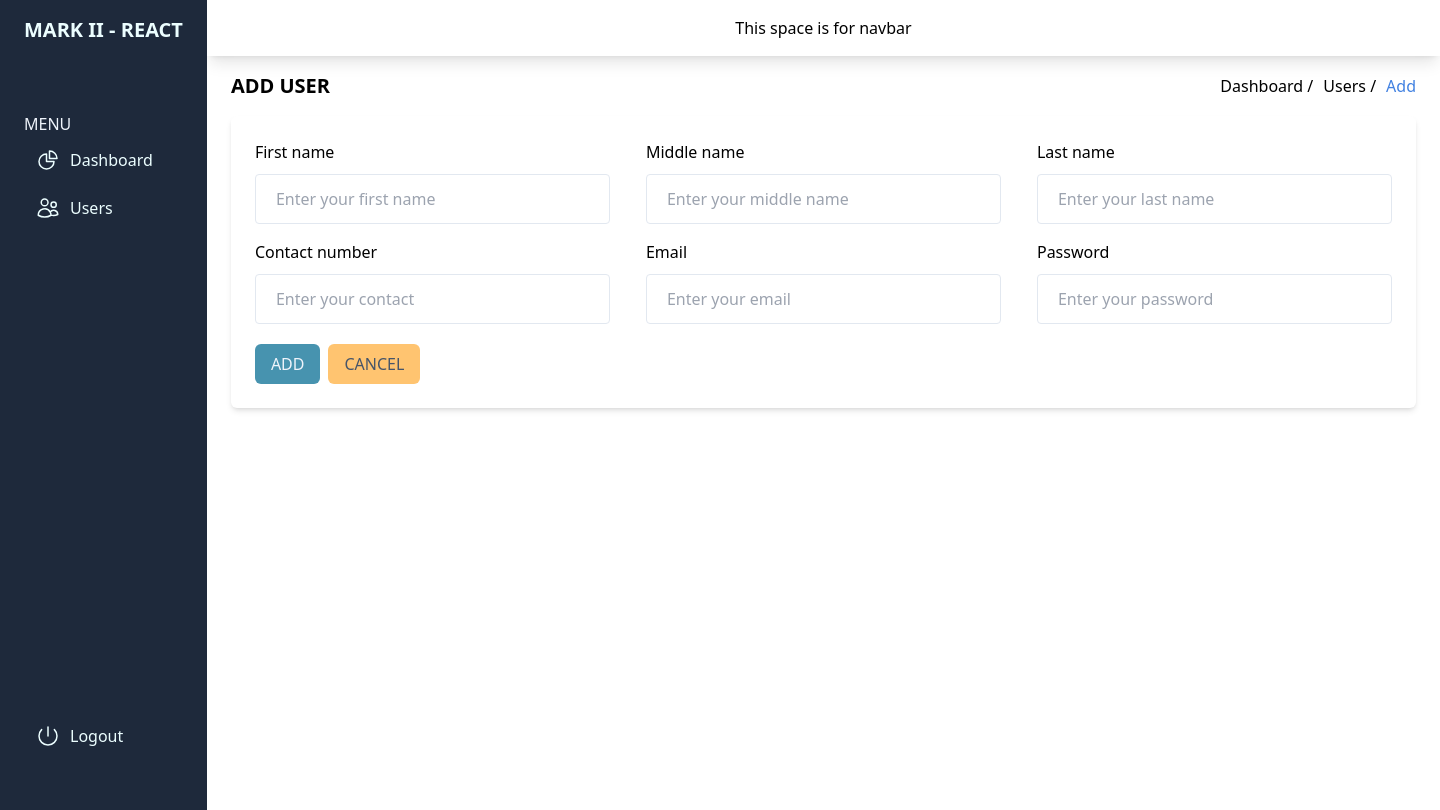
Test: UserAdd page › submit form and validation error
In the field labelled "First name": (432, 199) [255,174,610,224], type "John123"
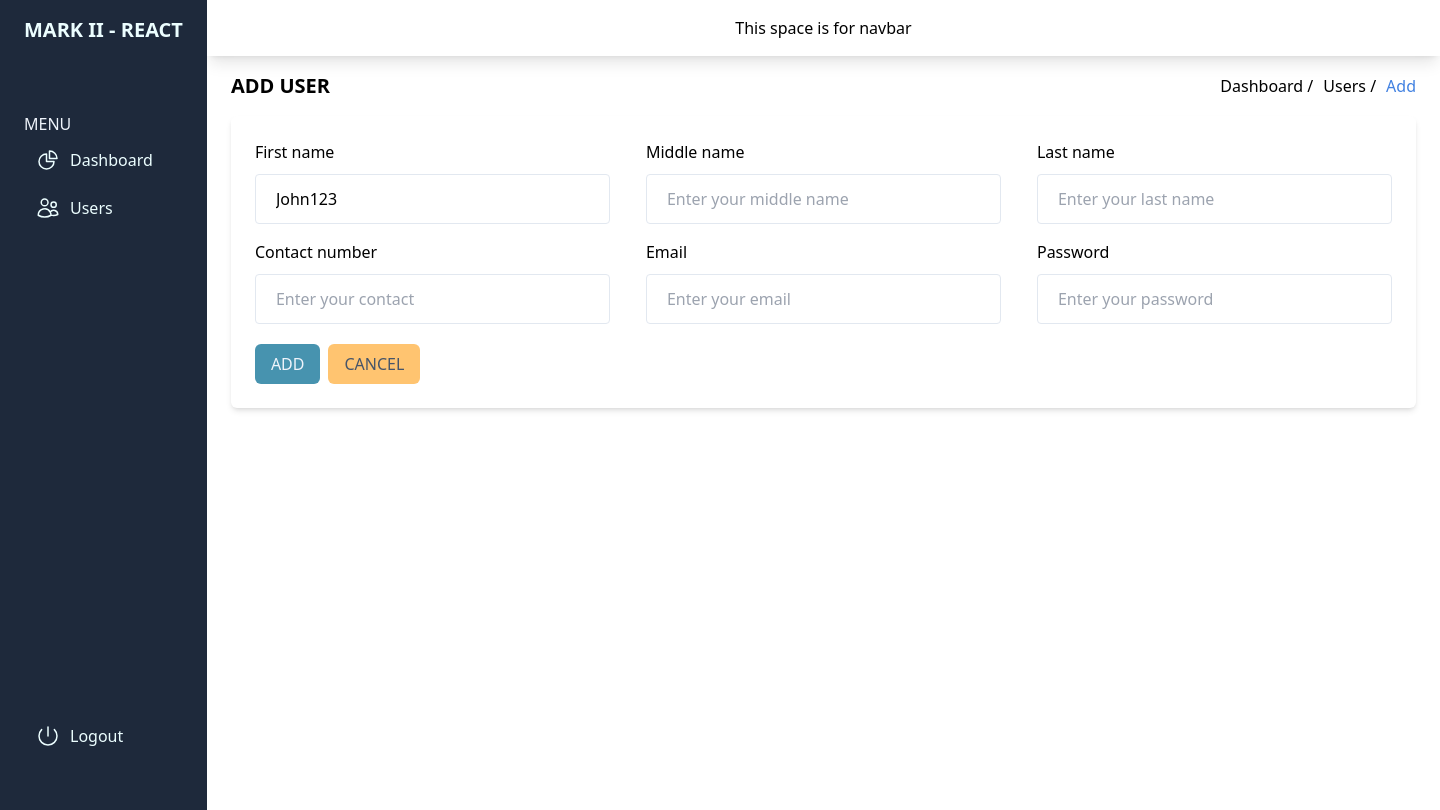
In the field labelled "Last name": (1214, 199) [1037,174,1392,224], type "Doe"
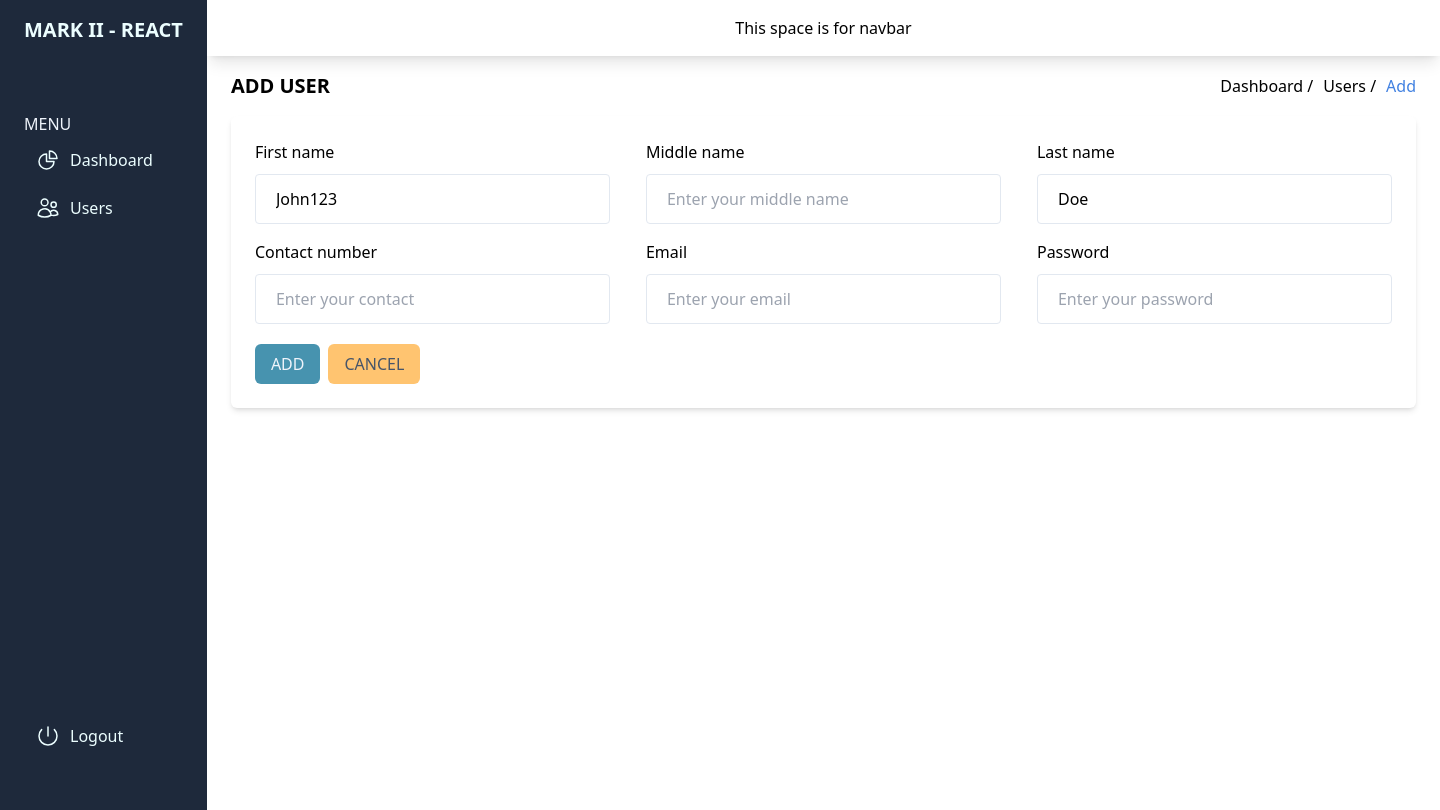
In the field labelled "Email": (823, 299) [646,274,1001,324], type "john.doe@gmail.com"
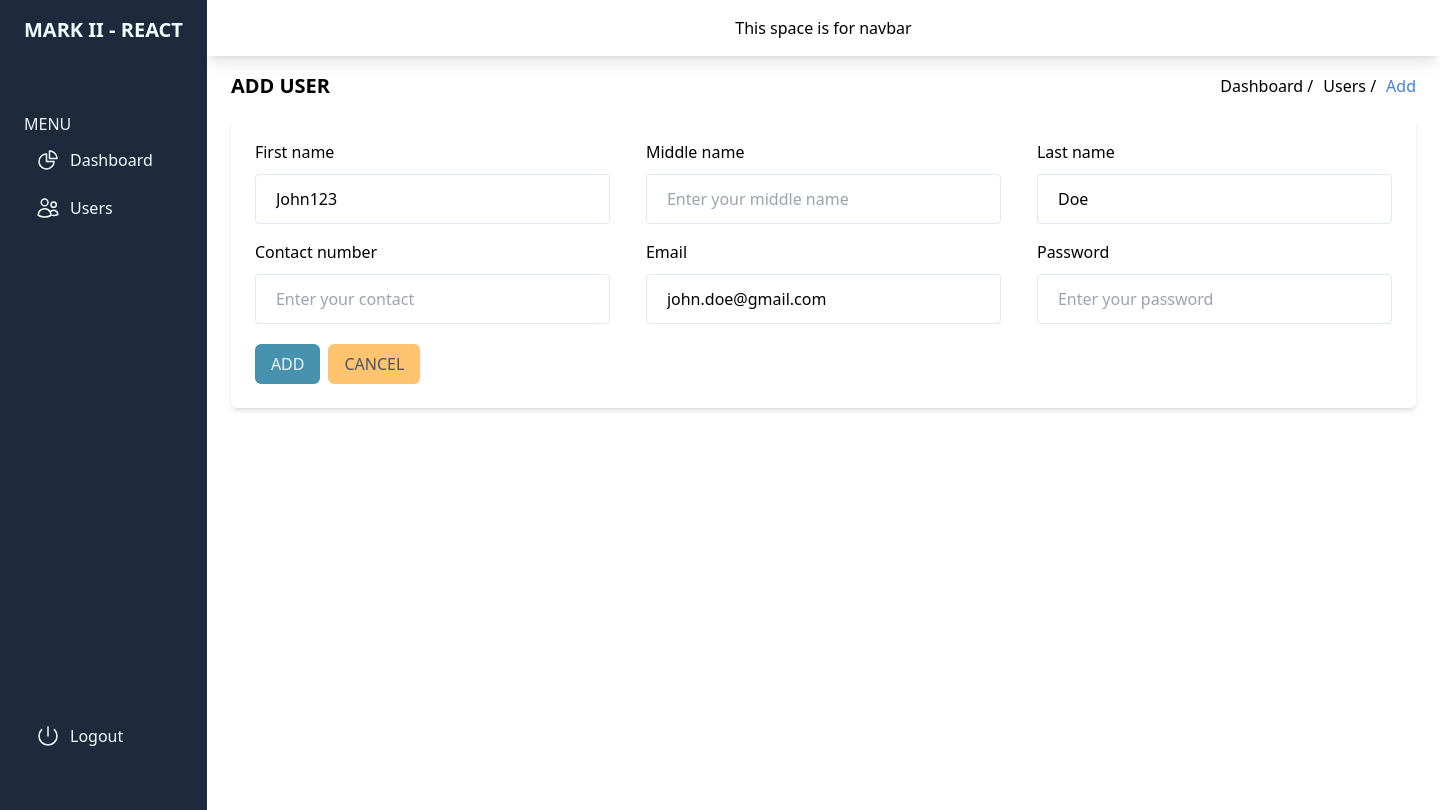
In the password field labelled "Password": (1214, 299) [1037,274,1392,324], type "123456"
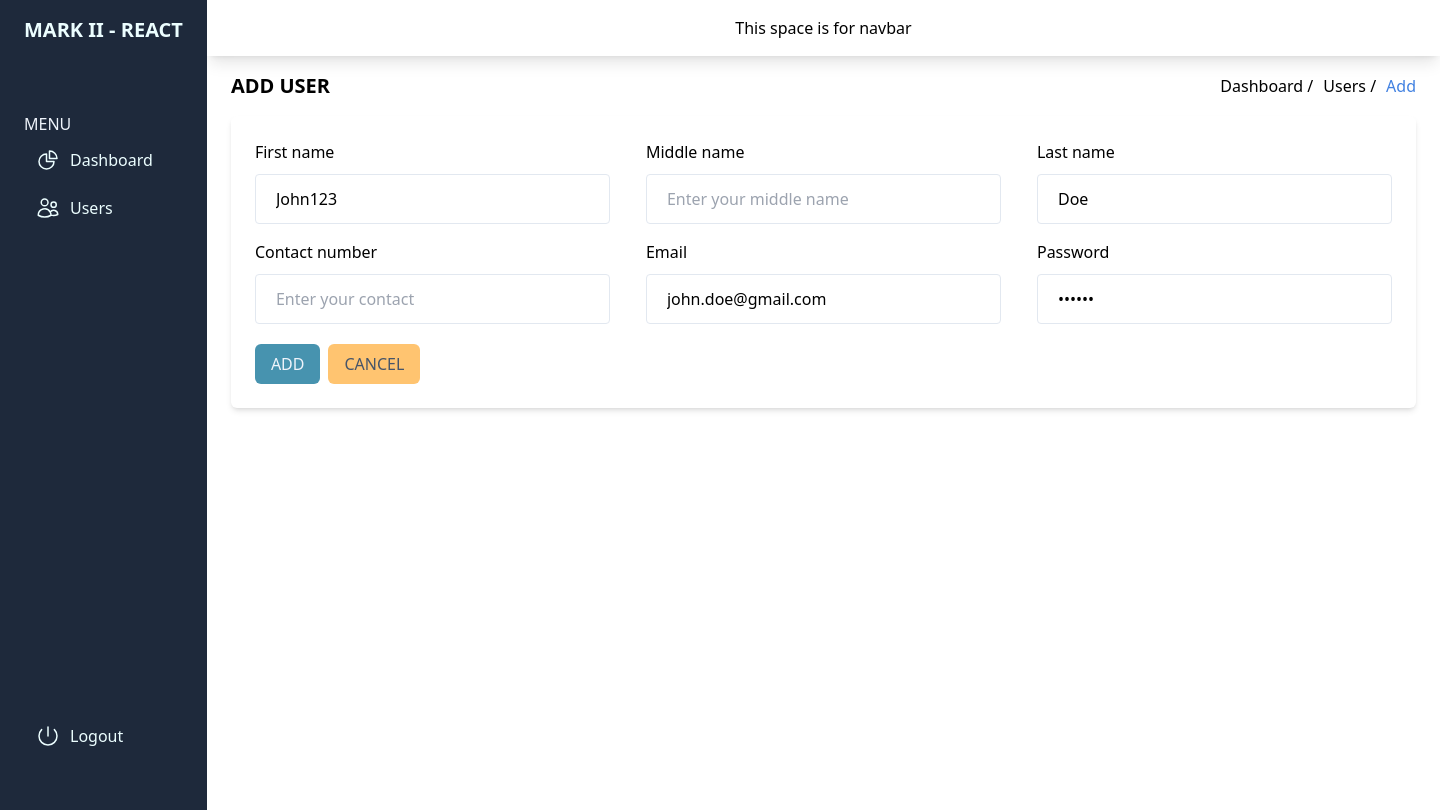
In the field labelled "Contact number": (432, 299) [255,274,610,324], type "1234567890"
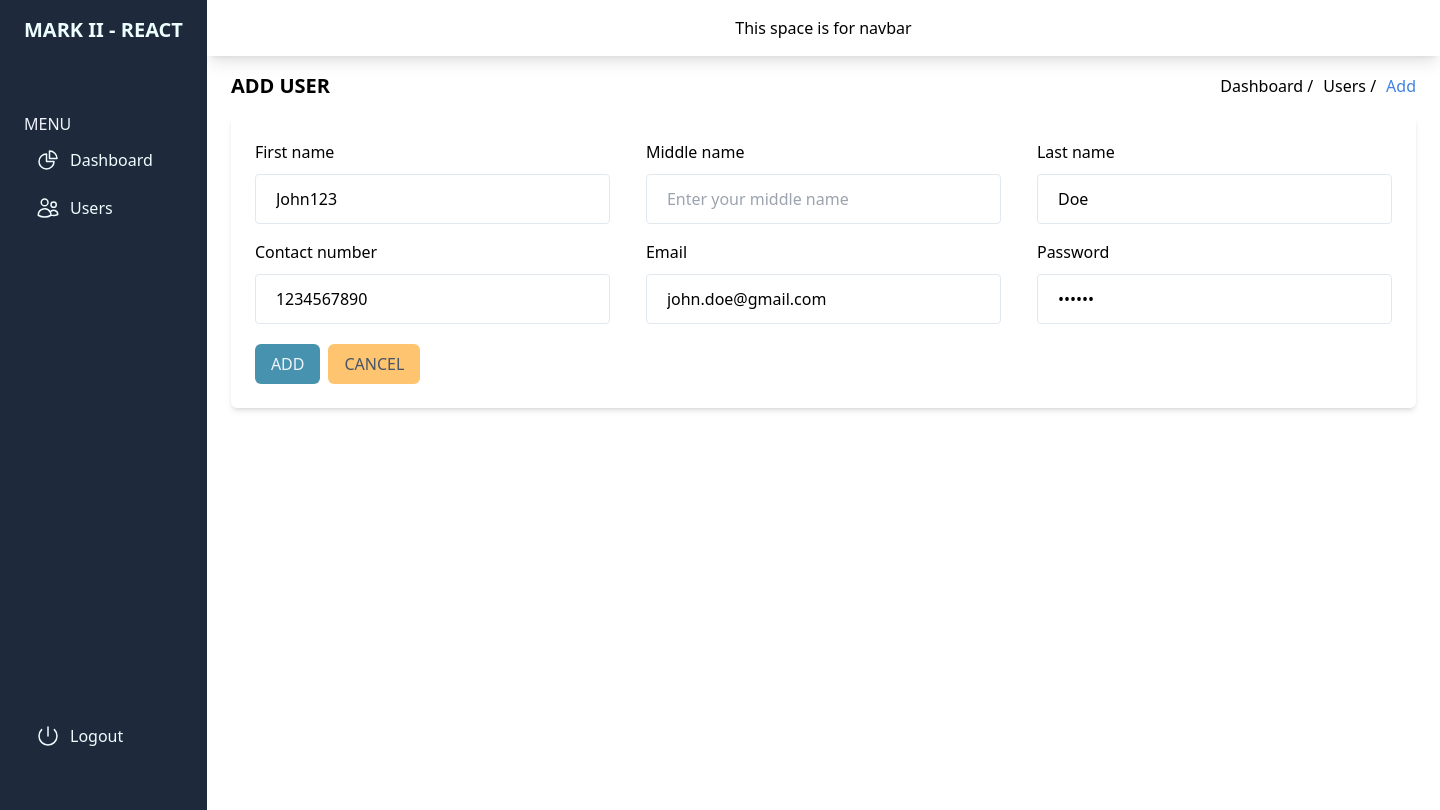
Submit the form, box [255,140,1392,384]
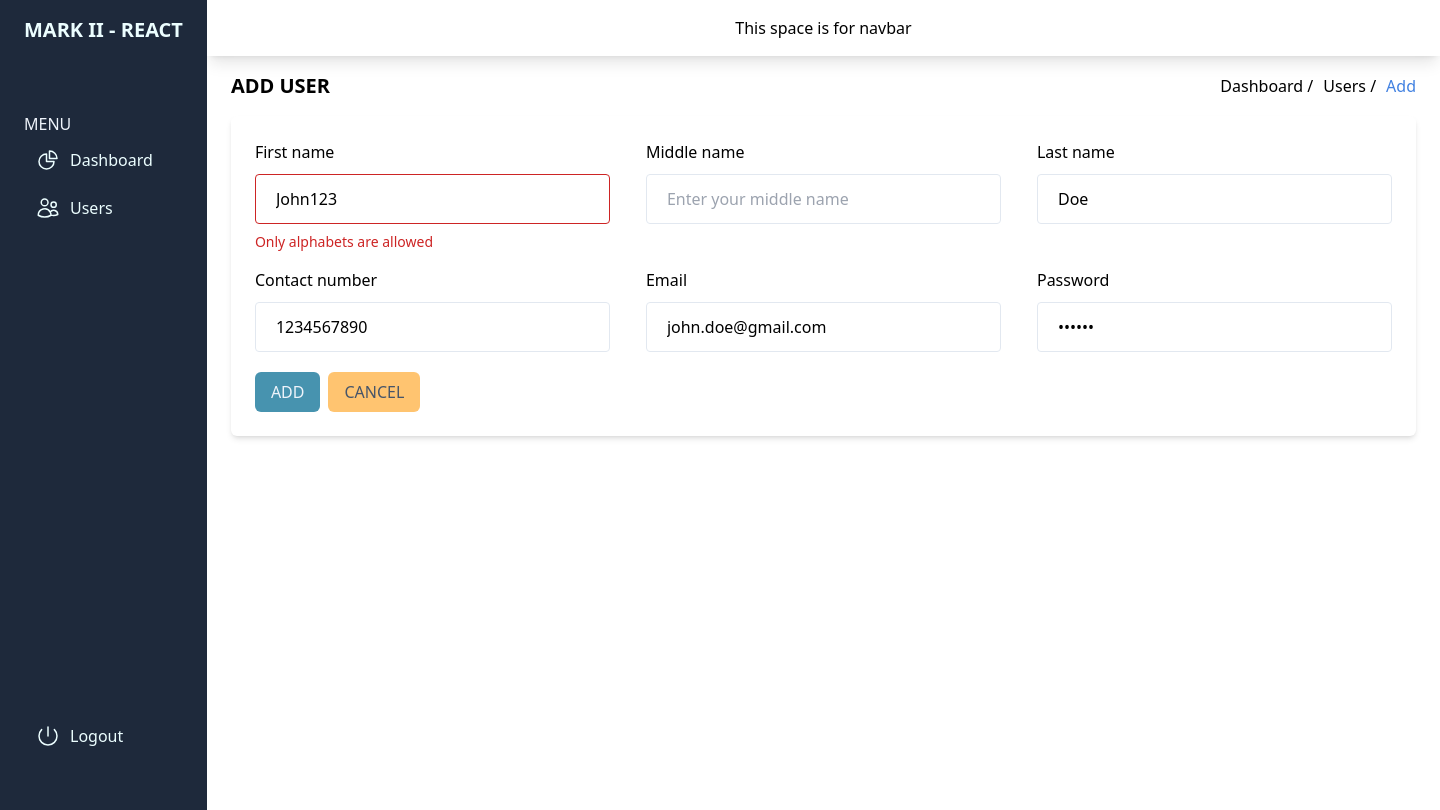
Check: the message "Only alphabets are allowed" is shown, box [255,232,433,251]
